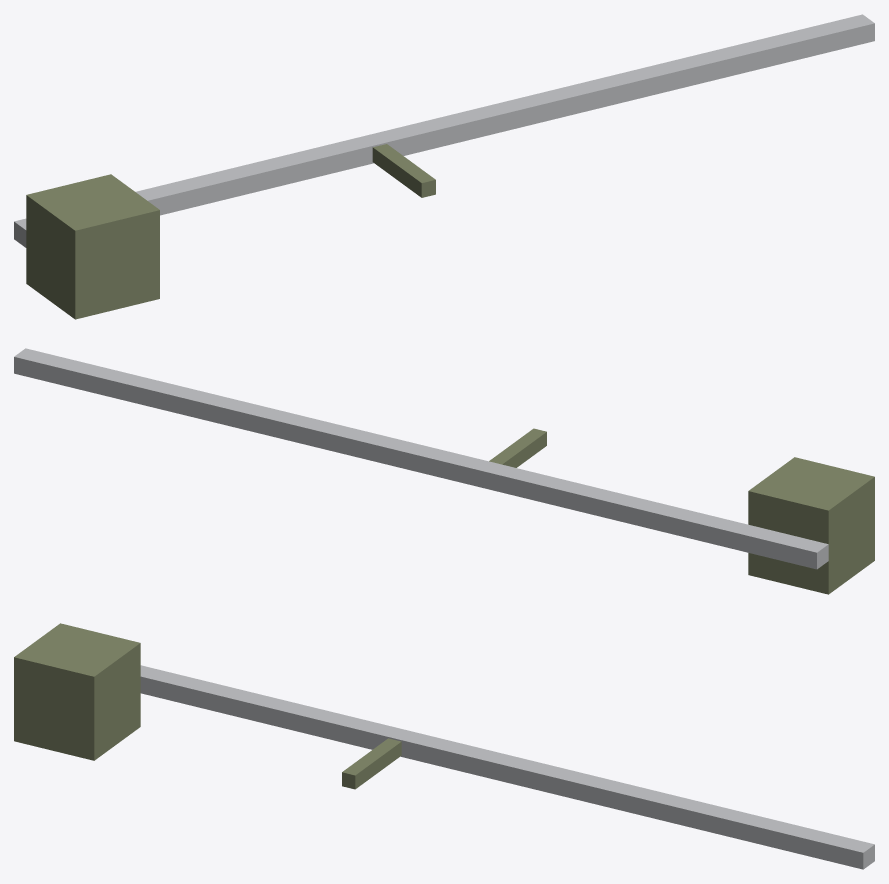
3 views of the same model, one above another, from view 1: azimuth 30°, elevation 25°; view 2: azimuth 150°, elevation 25°; view 3: azimuth 330°, elevation 25° (orthographic). The views are drawn at different scales.
Parts seen in each view (by area): view 1: rail, stand; view 2: rail, stand; view 3: rail, stand.
Boxes of the visible parts, box(x1,y1,x2,y2) form: rail: box(14, 14, 874, 247); stand: box(26, 144, 435, 319); rail: box(14, 348, 828, 569); stand: box(489, 428, 874, 594); rail: box(140, 665, 874, 869); stand: box(14, 623, 401, 789).
Size of the model in its own units: 6 by 0.6 by 0.75.
